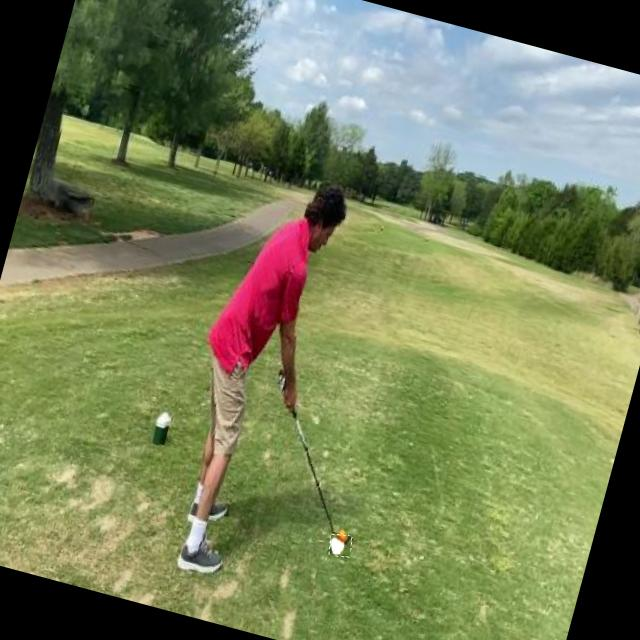club head: (326, 532, 354, 560)
